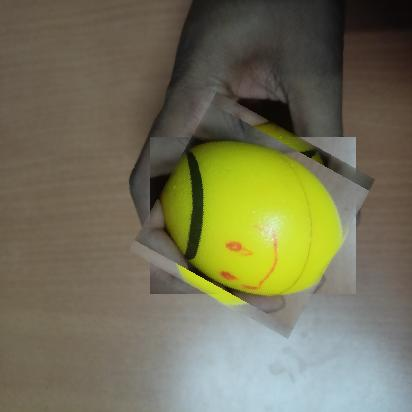Yellowball: (145, 108, 360, 323)
